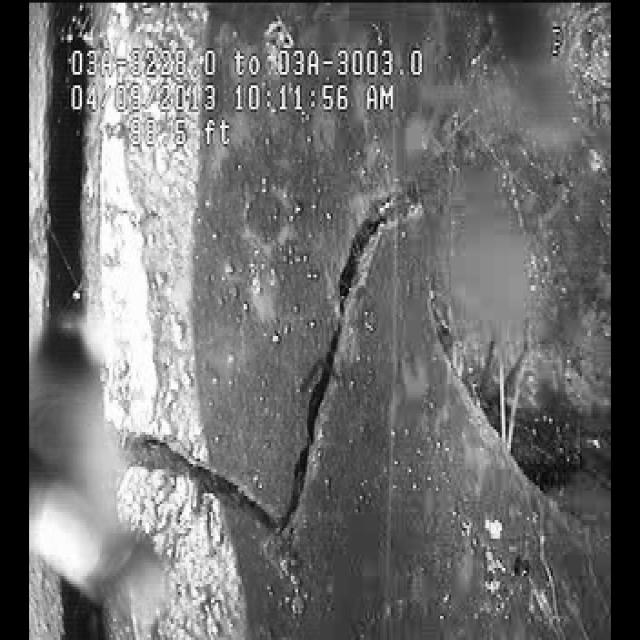Crack: (127, 199, 419, 592)
